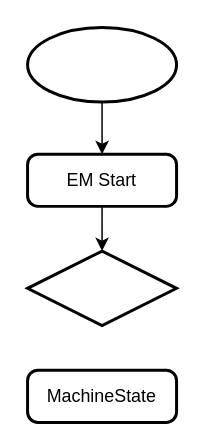
Image size: 203x448. Some labels were removed from this diagram. The shapes that lost their labels are listed below. From the top down, each one's centre as x and y in pixels, then its label:
At (x=101, y=64): "Start".
At (x=101, y=287): "EM Ready?".
